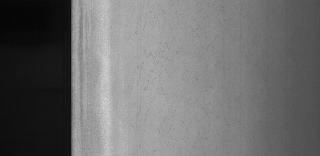silk spot: (131, 5, 217, 122)
